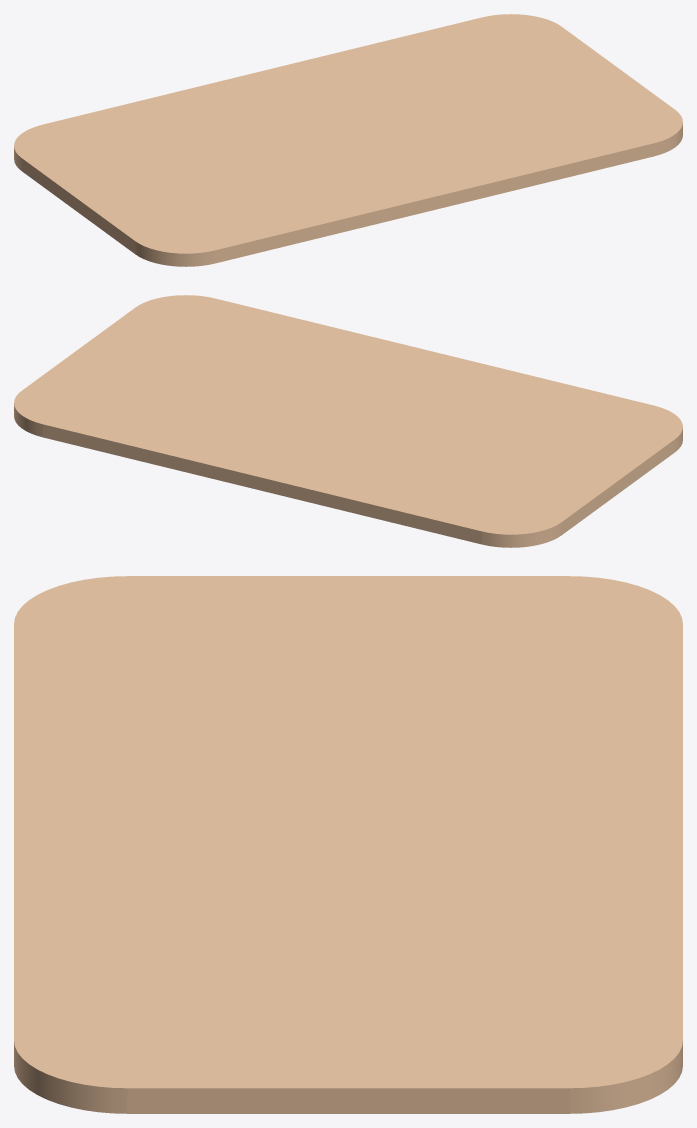
The model's file is rugDoormat.glb.
3 renders of one model, top to bottom at view 1: azimuth 30°, elevation 25°; view 2: azimuth 150°, elevation 25°; view 3: azimuth 270°, elevation 25°, orthographic. The views are drawn at different scales.
Parts seen in each view (by area): view 1: rugDoormat(Clone); view 2: rugDoormat(Clone); view 3: rugDoormat(Clone).
Part boxes in pixels (bbox=[...]): rugDoormat(Clone): bbox=[14, 14, 682, 266]; rugDoormat(Clone): bbox=[14, 295, 682, 547]; rugDoormat(Clone): bbox=[14, 576, 682, 1113].
Bounding box in the file's own units: 0.8715 × 0.0203 × 0.4811.
1 material, 1 textured.
